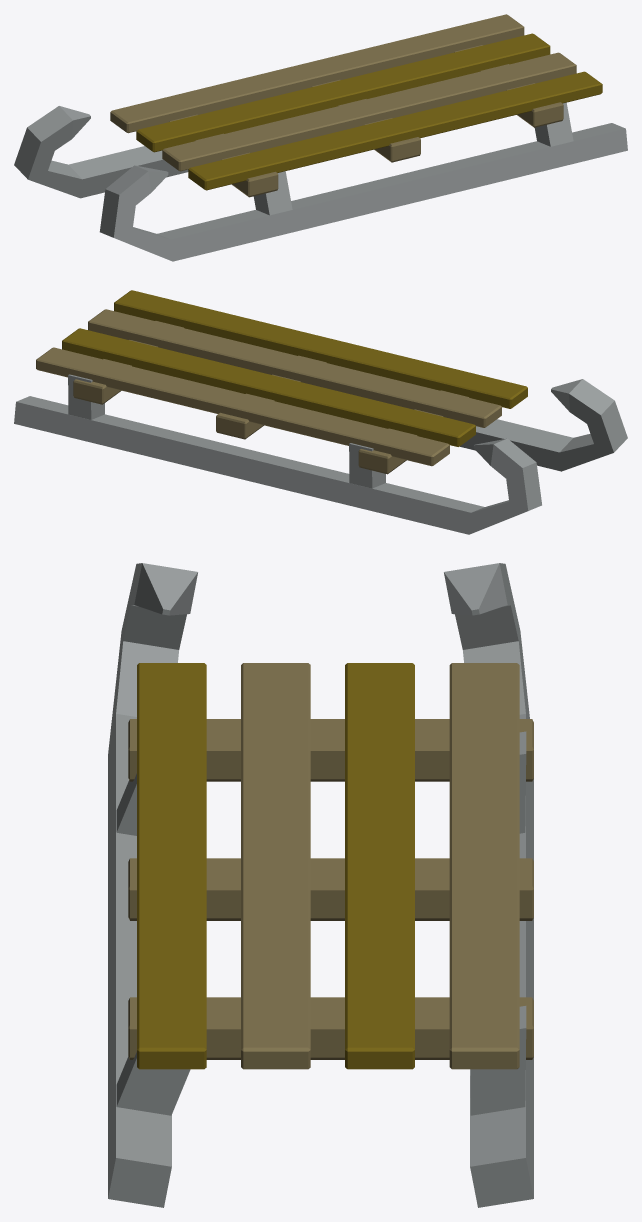
File: sled.fbx
3 renders of one model, top to bottom at view 1: azimuth 30°, elevation 25°; view 2: azimuth 150°, elevation 25°; view 3: azimuth 270°, elevation 25°, orthographic. The views are drawn at different scales.
Parts seen in each view (by area): view 1: tree:pCube137; view 2: tree:pCube137; view 3: tree:pCube137.
Part boxes in pixels (x1,y1,x2,y2): tree:pCube137: (14, 14, 627, 261); tree:pCube137: (14, 290, 627, 534); tree:pCube137: (108, 563, 533, 1207).
Size of the model in its own units: 503 by 87.21 by 182.
